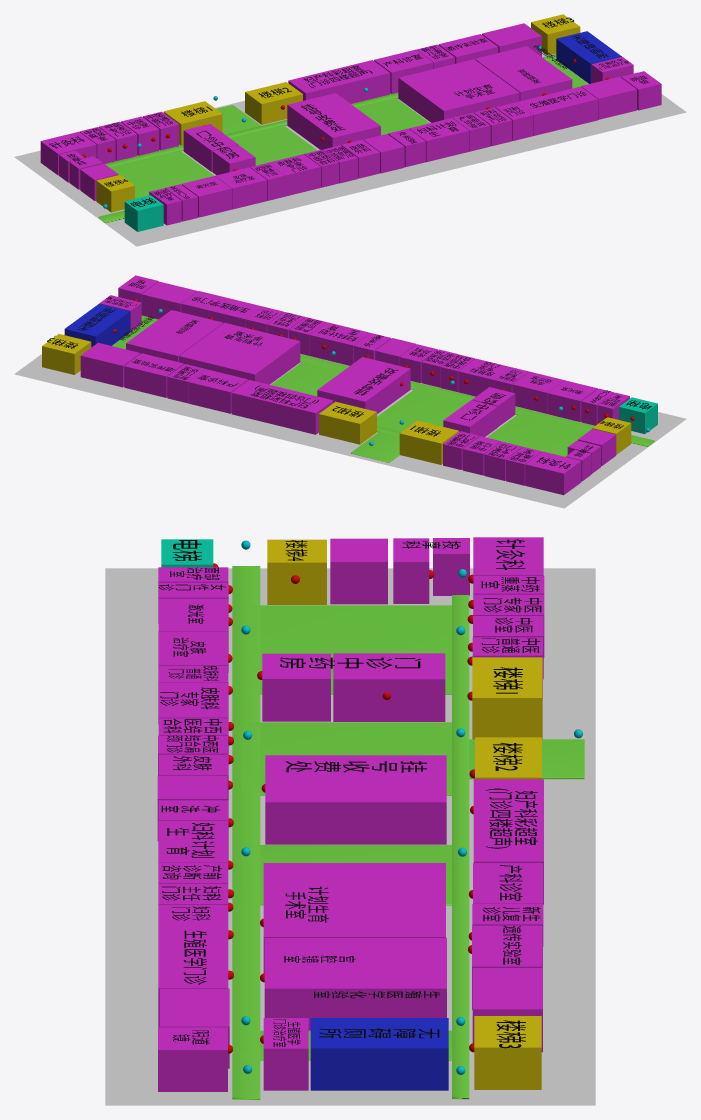
The picture shows the model from 3 angles, top to bottom: view 1: azimuth 30°, elevation 25°; view 2: azimuth 150°, elevation 25°; view 3: azimuth 270°, elevation 25°; orthographic projection. The views are drawn at different scales.
Visible parts, largest first — view 1: 平面, 立方体.013, 立方体.006, 立方体.005, 立方体.001, 立方体.061, 立方体.050, 立方体.031, 立方体.023, 立方体.046, 立方体.027, 立方体.051 (+38 smaller); view 2: 平面, 立方体.013, 立方体.001, 立方体.006, 立方体.005, 立方体.061, 立方体.031, 立方体.044, 立方体.023, 立方体.027, 立方体.011, 立方体.021 (+38 smaller); view 3: 平面, 立方体.006, 立方体.032, 立方体.005, 立方体.013, 立方体.061, 立方体.023, 立方体.033, 立方体.031, 立方体.045, 立方体.001, 立方体.026 (+39 smaller).
Boxes of the visible parts, <box> form: 平面: <box>14,51,686,246</box>; 立方体.013: <box>398,59,519,122</box>; 立方体.006: <box>287,93,380,149</box>; 立方体.005: <box>475,46,572,101</box>; 立方体.001: <box>288,60,390,103</box>; 立方体.061: <box>109,150,214,198</box>; 立方体.050: <box>516,86,597,135</box>; 立方体.031: <box>230,125,317,165</box>; 立方体.023: <box>556,31,621,83</box>; 立方体.046: <box>409,118,469,162</box>; 立方体.027: <box>245,82,302,124</box>; 立方体.051: <box>581,76,636,119</box>; 平面: <box>14,325,686,508</box>; 立方体.013: <box>179,322,300,384</box>; 立方体.001: <box>231,380,333,434</box>; 立方体.006: <box>317,357,410,413</box>; 立方体.005: <box>126,310,223,362</box>; 立方体.061: <box>487,412,590,456</box>; 立方体.031: <box>377,385,467,430</box>; 立方体.044: <box>525,451,581,495</box>; 立方体.023: <box>64,303,130,347</box>; 立方体.027: <box>319,401,376,444</box>; 立方体.011: <box>80,342,140,387</box>; 立方体.021: <box>124,353,183,397</box>; 平面: <box>105,568,595,1105</box>; 立方体.006: <box>265,755,446,844</box>; 立方体.032: <box>232,566,260,1099</box>; 立方体.005: <box>264,938,446,1030</box>; 立方体.013: <box>263,863,445,973</box>; 立方体.061: <box>251,605,451,694</box>; 立方体.023: <box>310,1018,448,1090</box>; 立方体.033: <box>452,595,469,1099</box>; 立方体.031: <box>242,722,451,795</box>; 立方体.045: <box>333,653,445,721</box>; 立方体.001: <box>473,779,543,904</box>; 立方体.026: <box>472,657,542,739</box>.
Size of the model in its own units: 20.4 by 0.8082 by 7.87.
